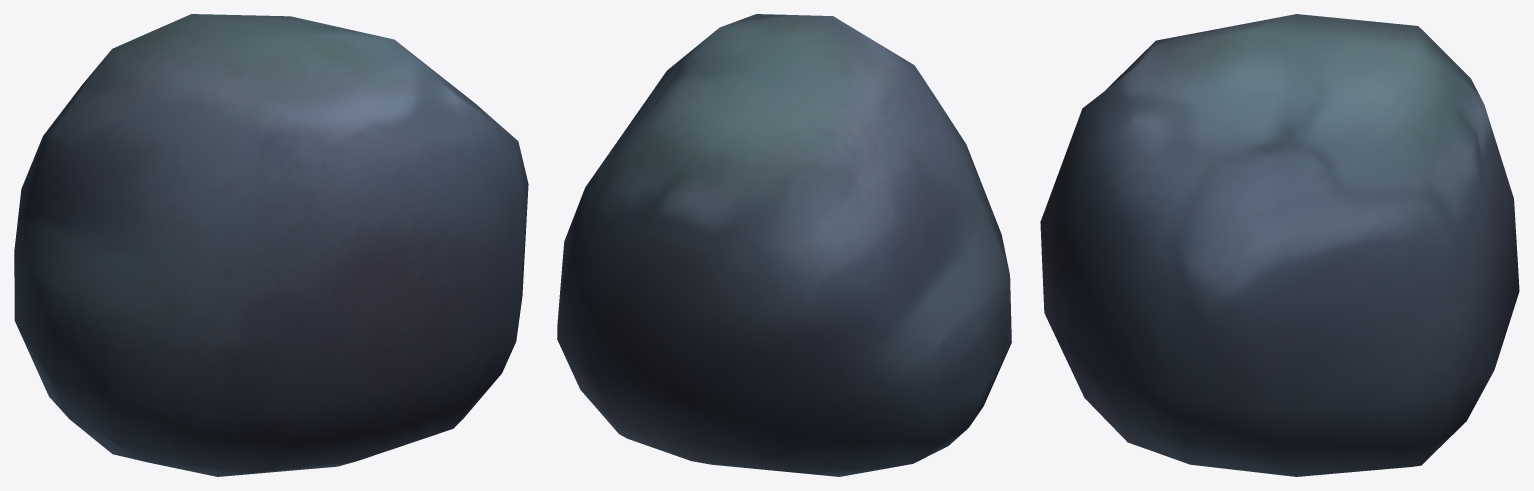
The model's file is rock_v2.glb.
The picture shows the model from 3 angles, left to right: view 1: azimuth 30°, elevation 25°; view 2: azimuth 150°, elevation 25°; view 3: azimuth 270°, elevation 25°; orthographic projection. The views are drawn at different scales.
Parts seen in each view (by area): view 1: rock_lp_var2; view 2: rock_lp_var2; view 3: rock_lp_var2.
Boxes of the visible parts, x1,y1,x2,y2 form: rock_lp_var2: (14,14,528,476); rock_lp_var2: (557,14,1011,476); rock_lp_var2: (1040,14,1519,476).
Bounding box in the file's own units: 0.497 × 0.4753 × 0.4931.
Materials: 1 (1 with a texture image).
